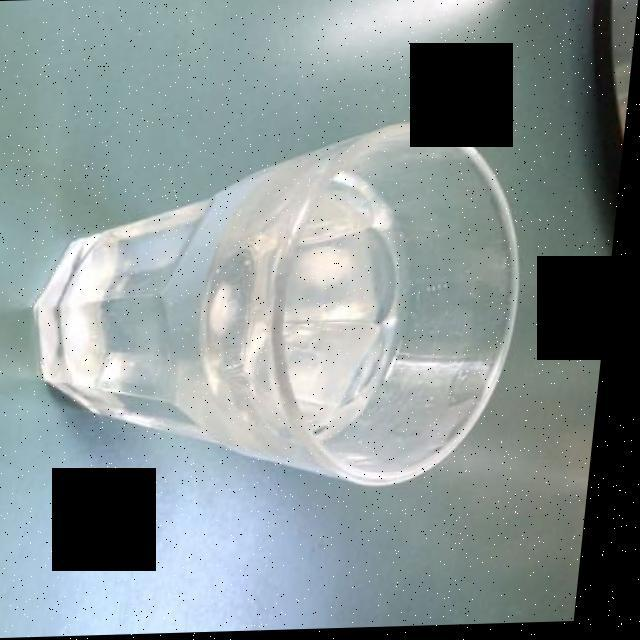drink: (51, 170, 408, 457)
